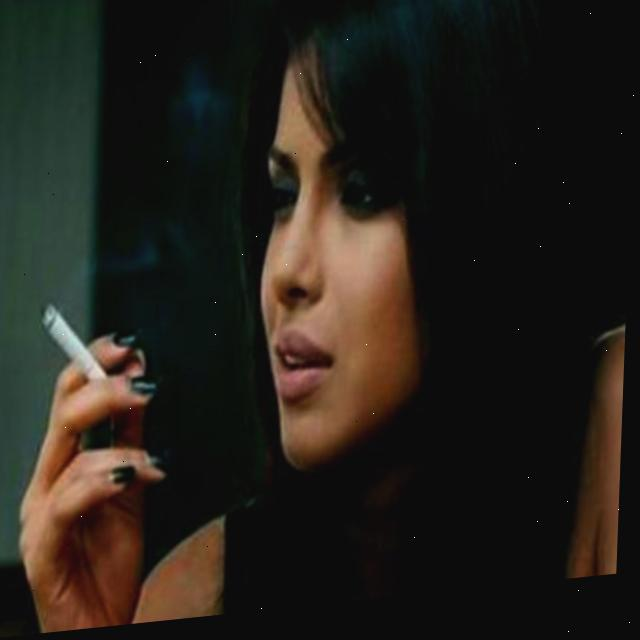cigarette: (41, 298, 114, 396)
